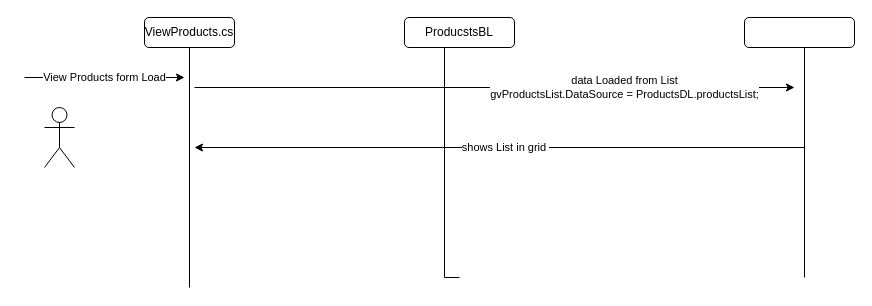
Image size: 872x306. Some labels were removed from this diagram. Each missing label, with the centre of its shape:
"Actor" goes at (59,137).
"ProductsDL" goes at (799,32).
